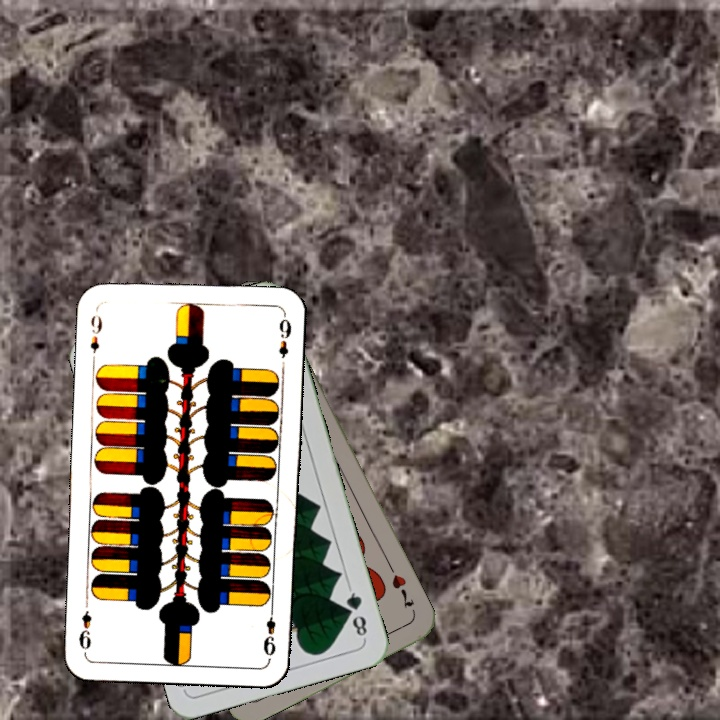E9: (86, 305, 105, 364), (259, 602, 279, 658)
G8: (342, 584, 370, 642)
H7: (388, 570, 417, 611)
